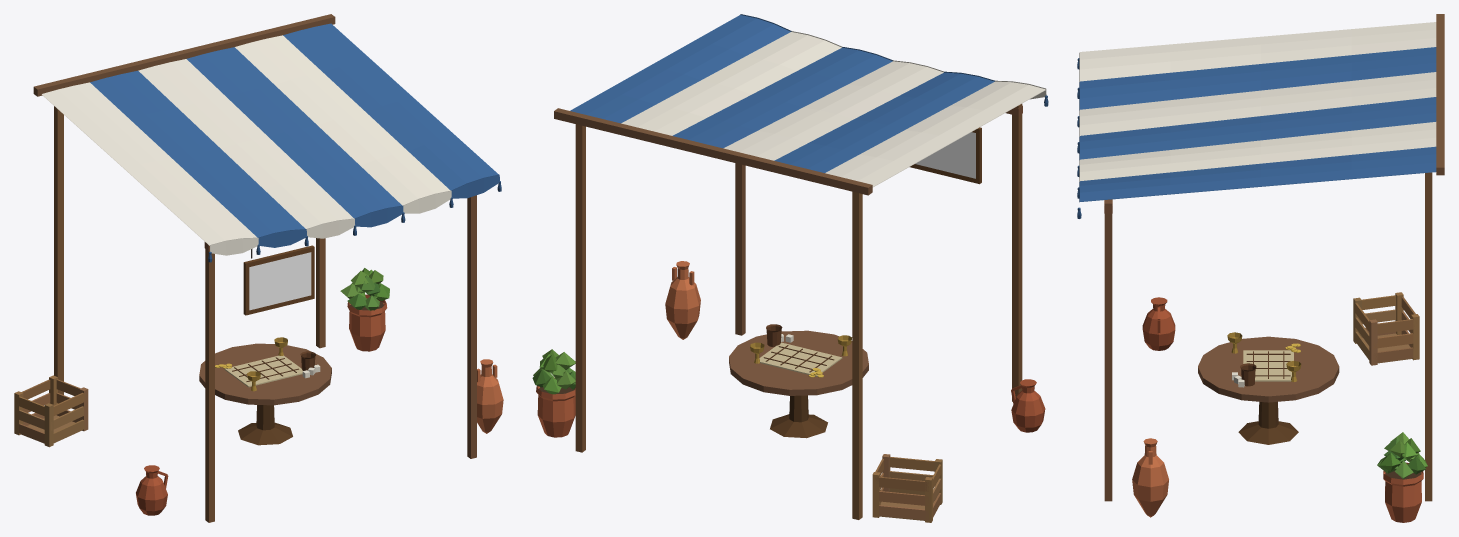
File: mon_dice.glb
3 views of the same model, side by side, from view 1: azimuth 30°, elevation 25°; view 2: azimuth 150°, elevation 25°; view 3: azimuth 270°, elevation 25° (orthographic). The views are drawn at different scales.
Parts seen in each view (by area): view 1: House; view 2: House; view 3: House.
Boxes of the visible parts, left/top/right/bottom form: House: left=14, top=14, right=503, bottom=522; House: left=532, top=14, right=1048, bottom=522; House: left=1077, top=14, right=1444, bottom=522.
Size of the model in its own units: 2.73 by 2.24 by 2.18.
4 materials, 4 textured.
